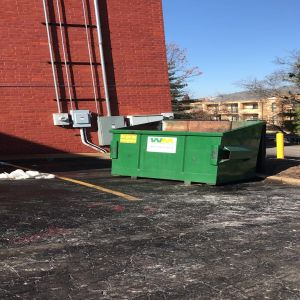Dumpster: (108, 117, 275, 191)
